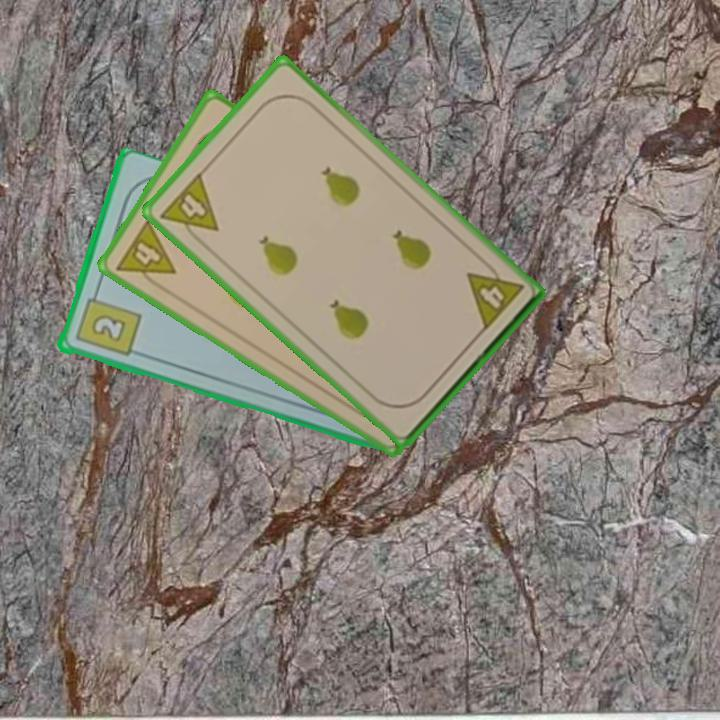2b: (71, 286, 143, 360)
4p: (111, 215, 179, 295), (156, 168, 222, 249), (461, 255, 526, 334)
